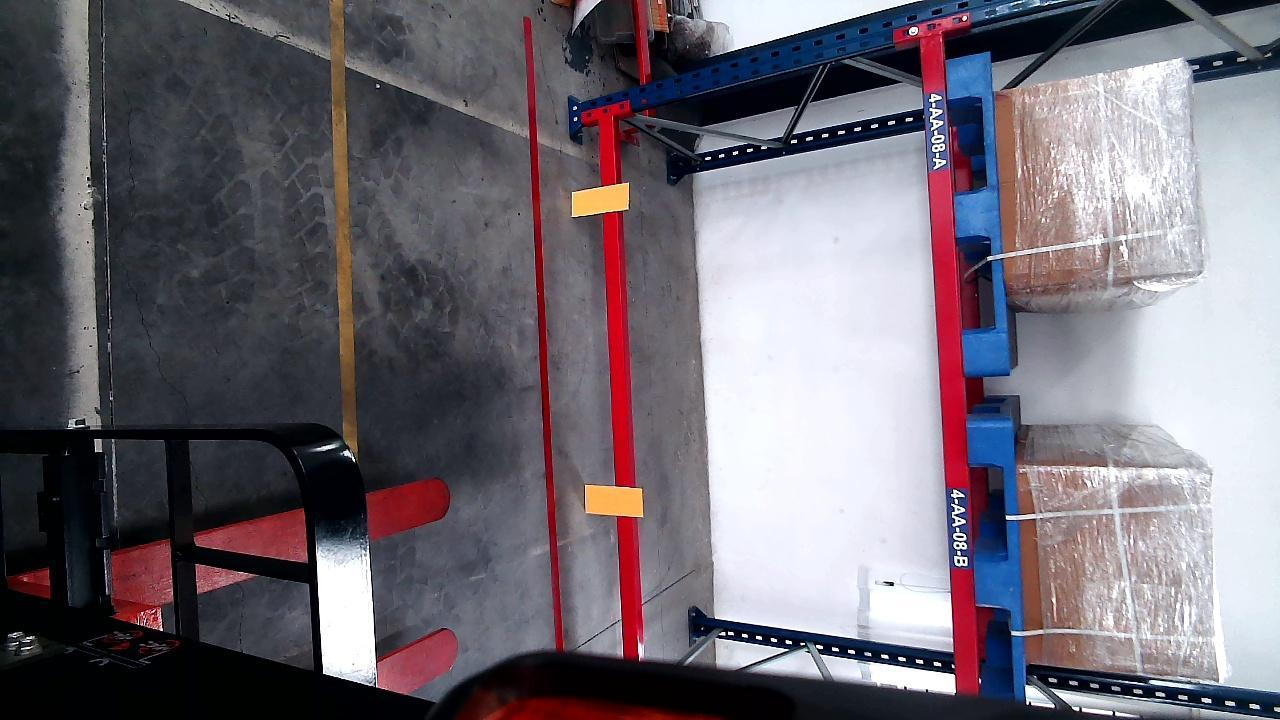red_line: (523, 19, 566, 650)
yellow_line: (331, 1, 358, 440)
